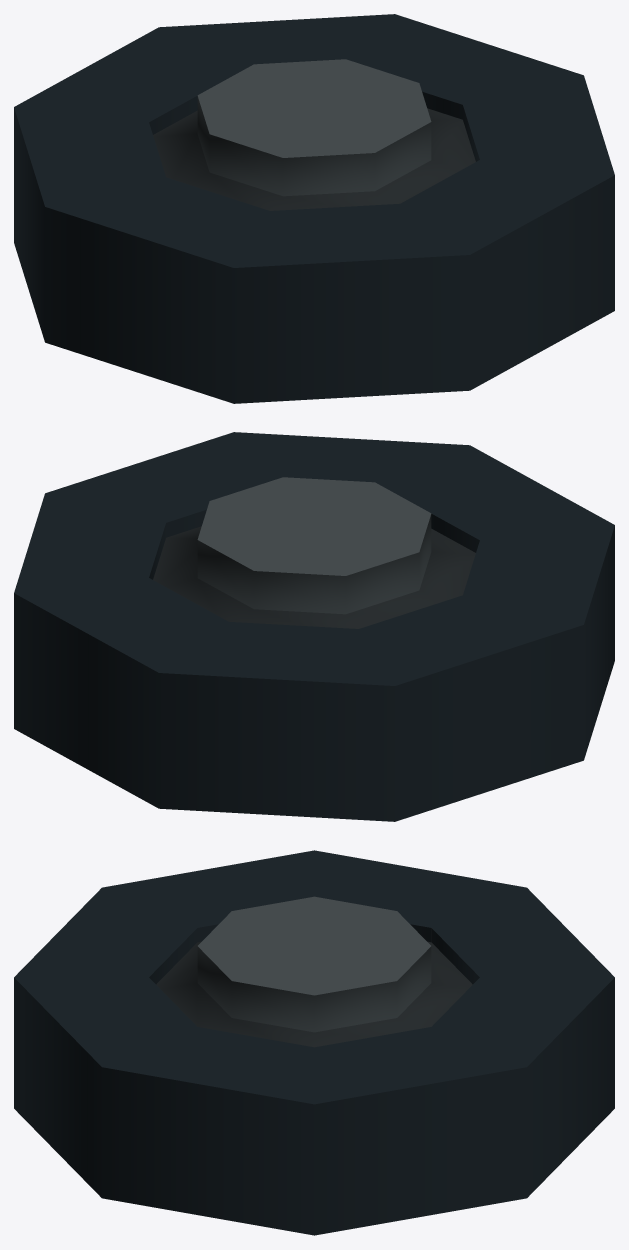
The model's file is Wheel.fbx.
The picture shows the model from 3 angles, top to bottom: view 1: azimuth 30°, elevation 25°; view 2: azimuth 150°, elevation 25°; view 3: azimuth 270°, elevation 25°; orthographic projection. The views are drawn at different scales.
Visible parts, largest first — view 1: Cylinder; view 2: Cylinder; view 3: Cylinder.
Boxes of the visible parts, x1,y1,x2,y2 form: Cylinder: (14, 14, 614, 403); Cylinder: (14, 432, 614, 821); Cylinder: (14, 850, 614, 1235).
Bounding box in the file's own units: 291 × 86.69 × 291.
1 material, 1 textured.
